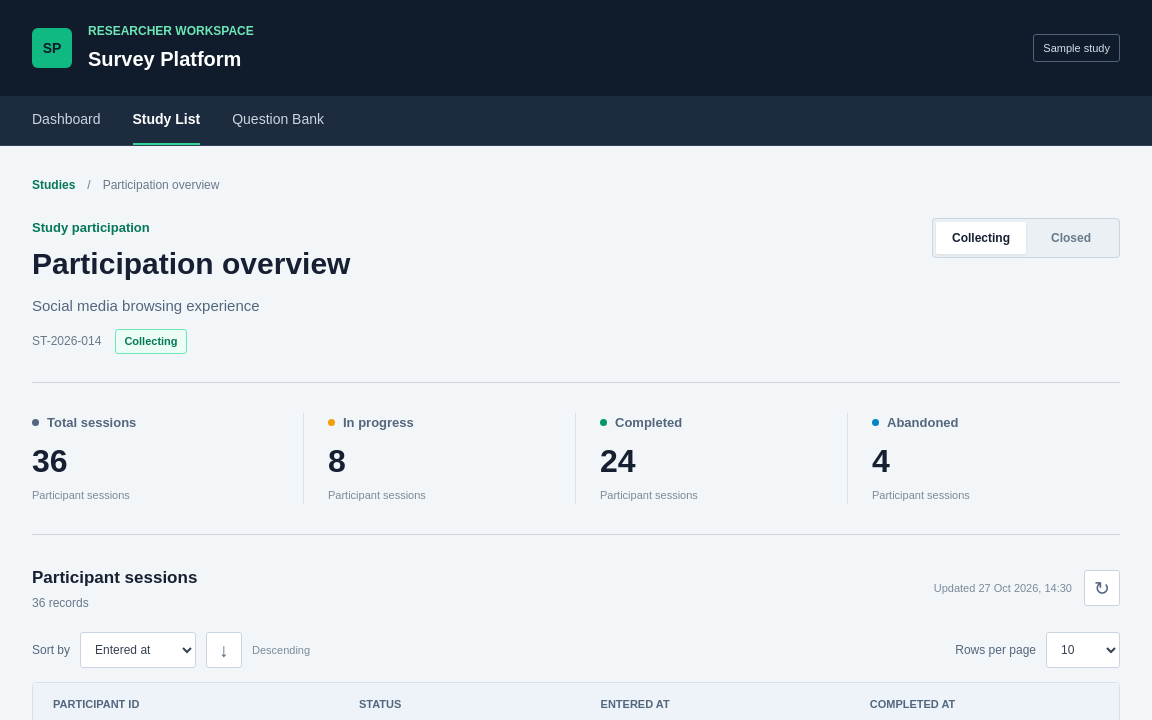
Scenario: standalone participation overview › switches to a closed study with completed and abandoned sessions only
Click the radio button labelled "Closed" at {"x": 1071, "y": 238}, box x1=1051 y1=231 x2=1091 y2=245
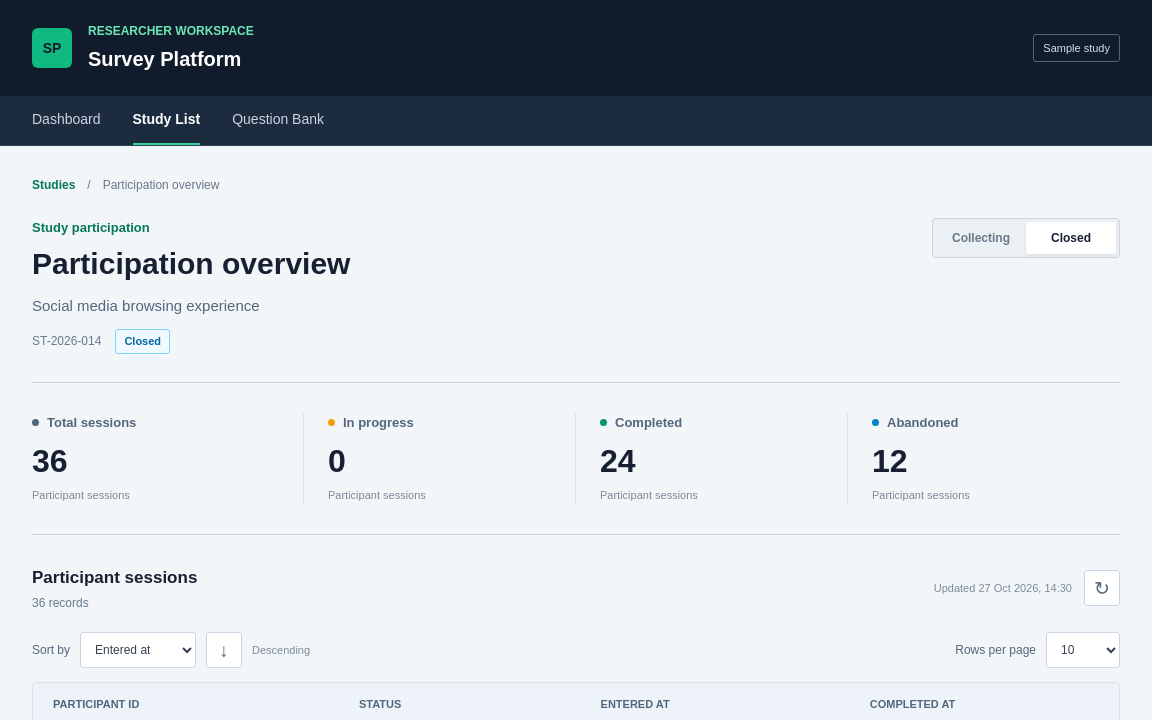
Expected: the text "36" is shown, x1=32 y1=443 x2=68 y2=479
Result: the text "0" is shown at x1=328 y1=443 x2=346 y2=479
Result: the text "12" is shown at x1=872 y1=443 x2=908 y2=479
